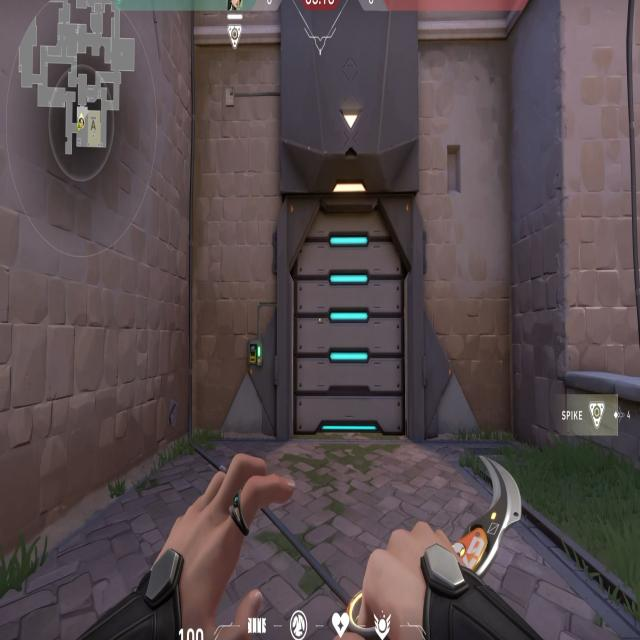A_Door: (283, 190, 416, 453)
